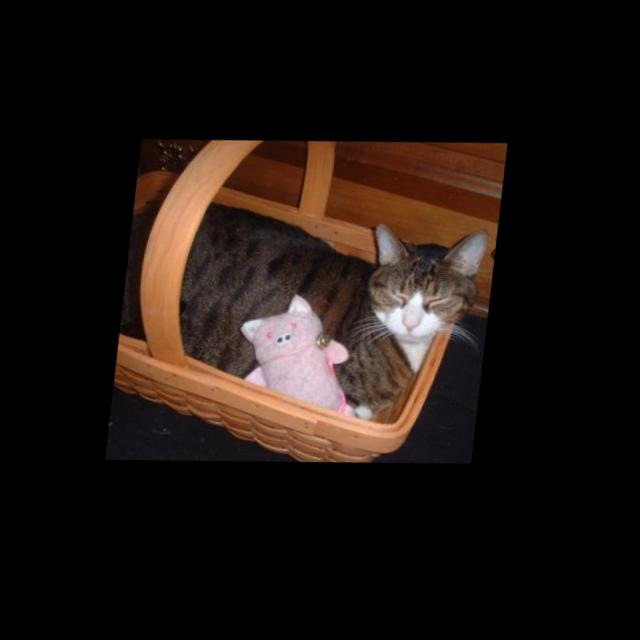animals: (370, 222, 485, 341)
